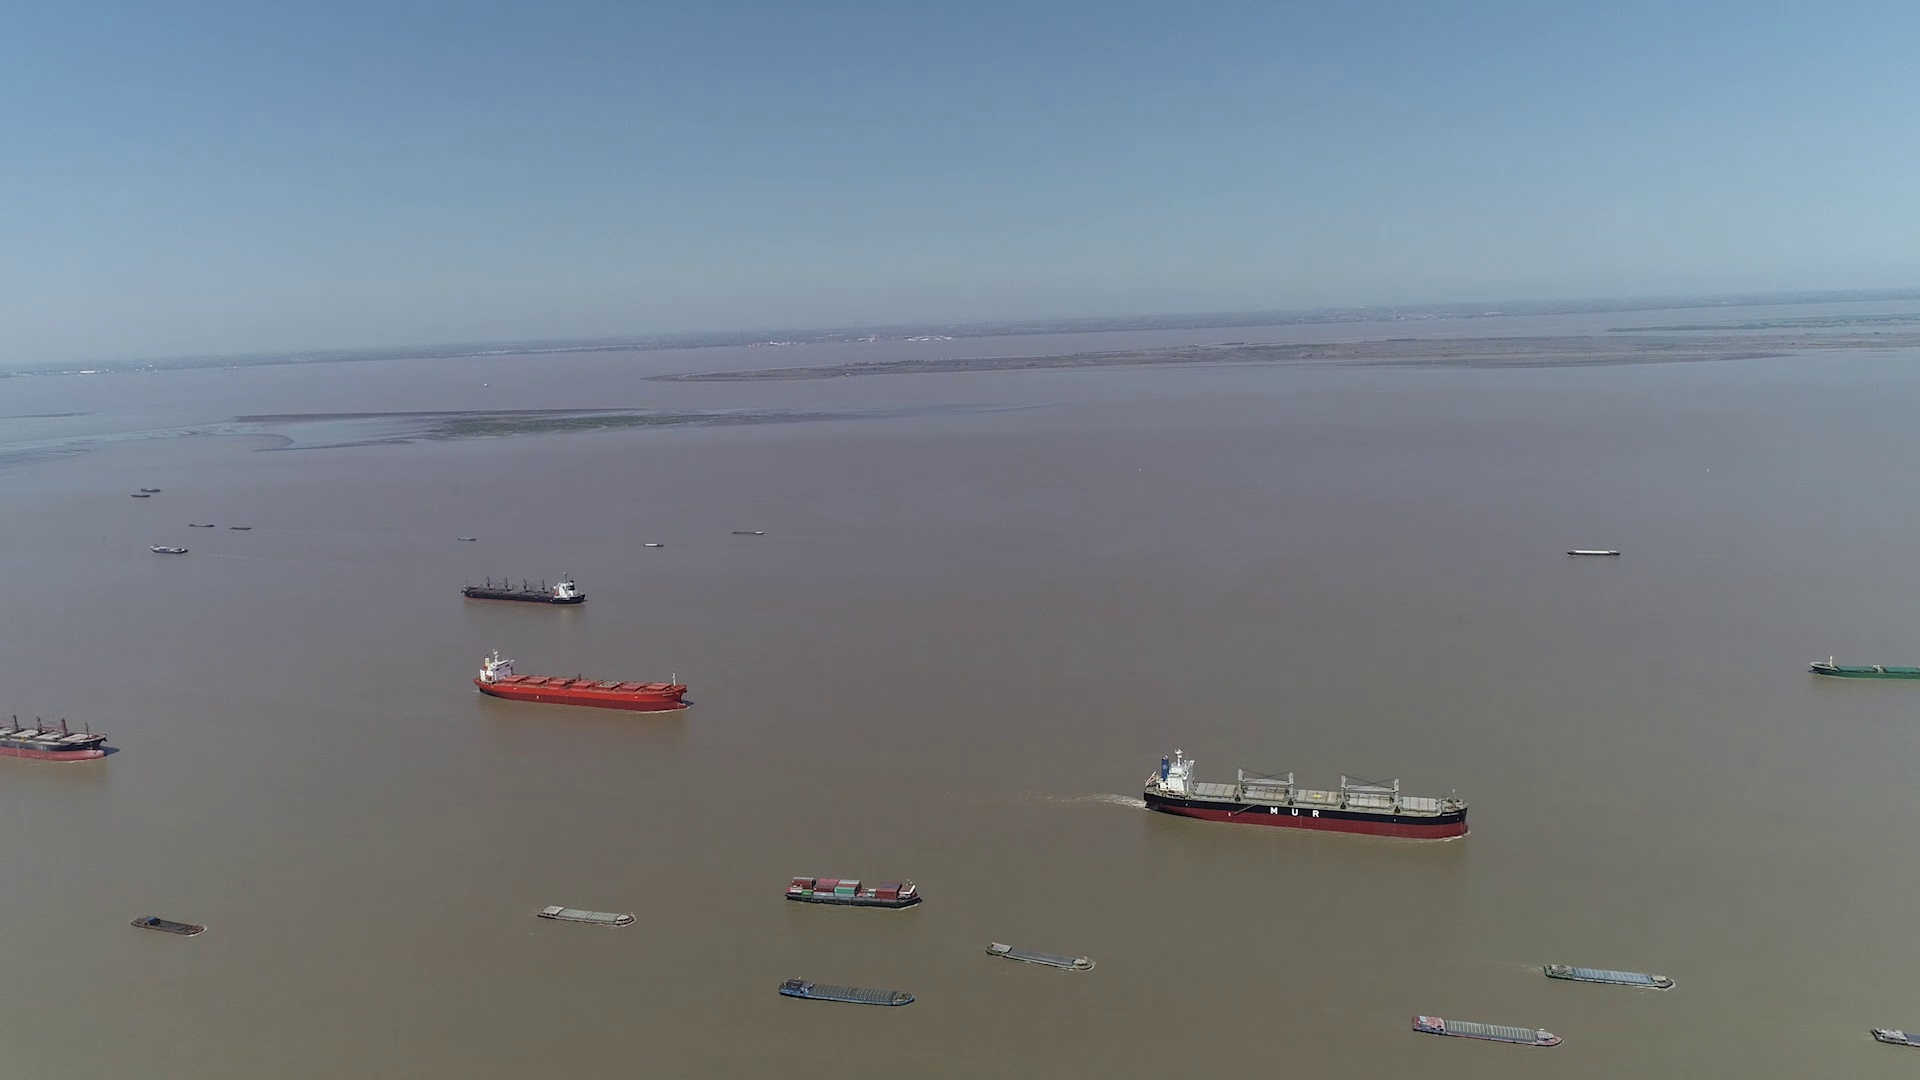ship: (1139, 750, 1470, 837), (475, 649, 684, 712), (1, 703, 112, 764), (1412, 1015, 1559, 1048), (783, 876, 922, 910), (777, 977, 915, 1007), (1544, 963, 1677, 992), (463, 574, 588, 604), (985, 940, 1097, 971), (1809, 655, 1920, 680), (534, 903, 636, 927), (132, 914, 204, 936), (1871, 1025, 1920, 1048), (1565, 547, 1619, 556), (152, 543, 190, 554)
